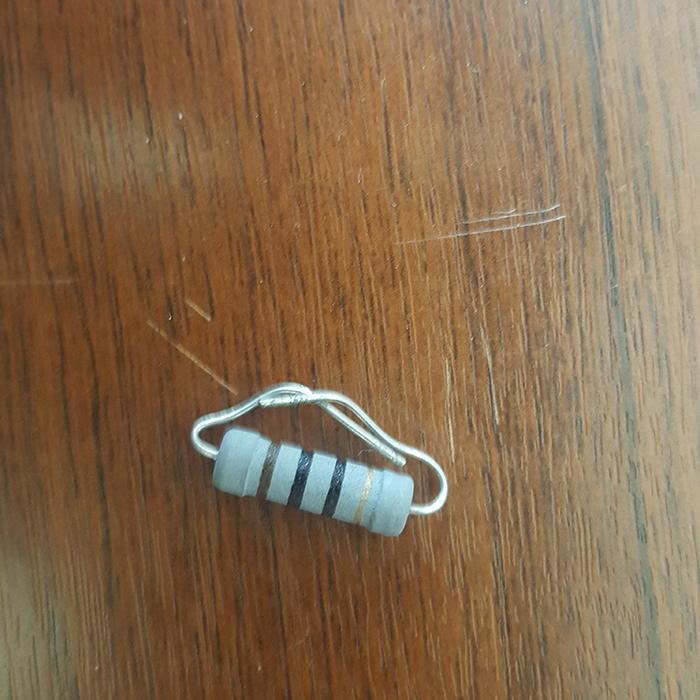resistor: (208, 426, 413, 537)
